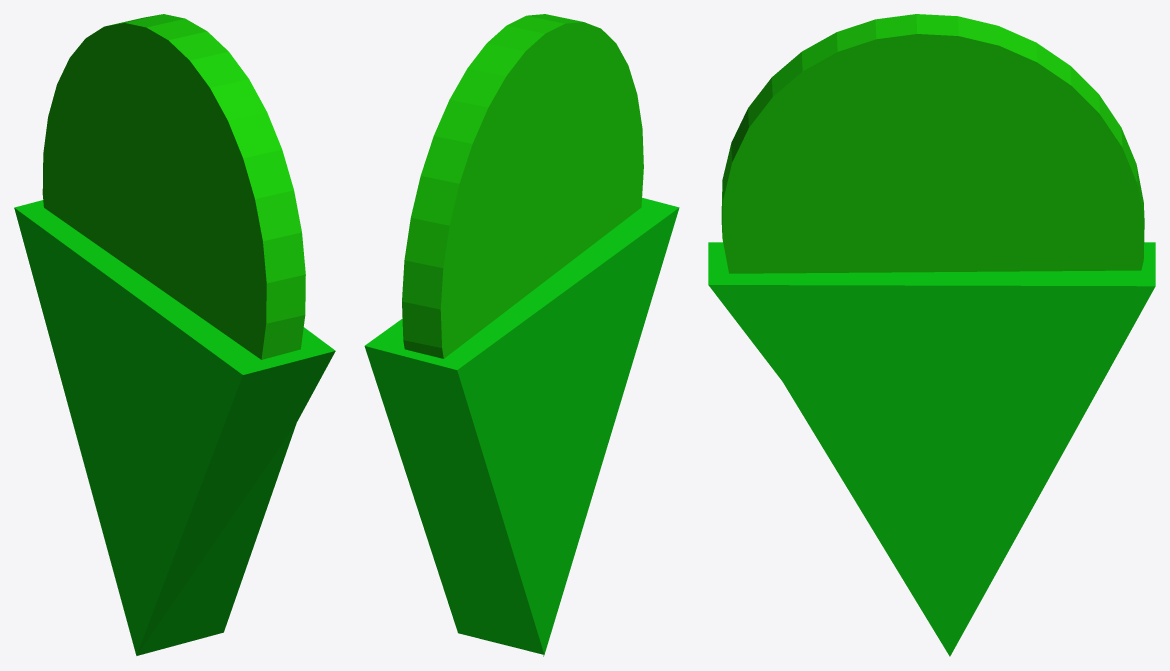
The model's file is green_marker.fbx.
The picture shows the model from 3 angles, left to right: view 1: azimuth 30°, elevation 25°; view 2: azimuth 150°, elevation 25°; view 3: azimuth 270°, elevation 25°; orthographic projection. The views are drawn at different scales.
Parts seen in each view (by area): view 1: Cube.001, Cylinder.001; view 2: Cube.001, Cylinder.001; view 3: Cylinder.001, Cube.001.
Boxes of the visible parts, box(x1,y1,x2,y2) form: Cube.001: box(14, 200, 335, 655); Cylinder.001: box(42, 14, 305, 359); Cube.001: box(364, 197, 679, 656); Cylinder.001: box(402, 14, 643, 358); Cylinder.001: box(721, 14, 1144, 273); Cube.001: box(708, 242, 1155, 656).
Size of the model in its own units: 52.65 by 301 by 200.
